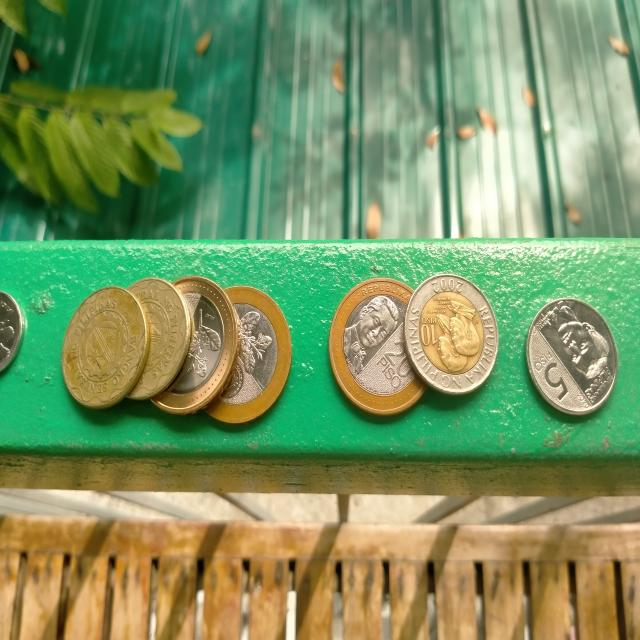10_Old_Front: (408, 272, 499, 398)
20_New_Back: (180, 286, 223, 388), (235, 295, 272, 411)
20_New_Front: (376, 336, 414, 396)
5_New_Front: (537, 352, 575, 408)
5_Old_Back: (59, 282, 146, 410), (125, 276, 189, 402)
